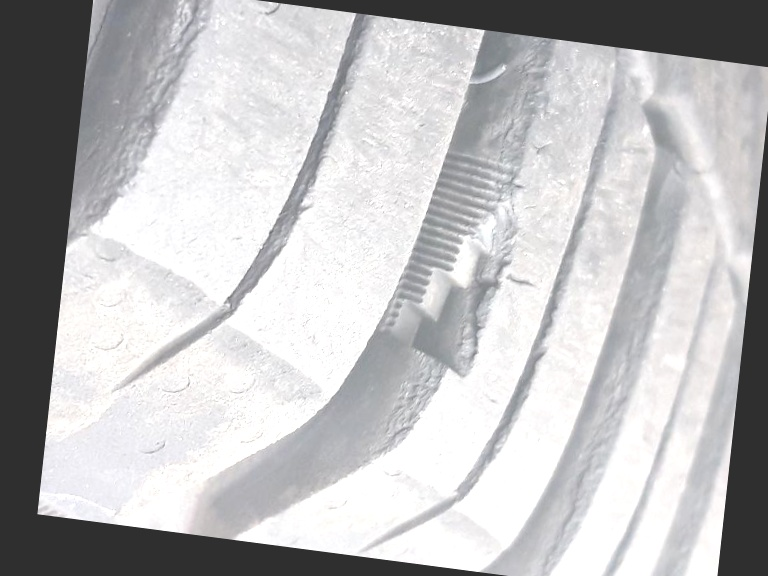temoin:80: (359, 135, 546, 399)
